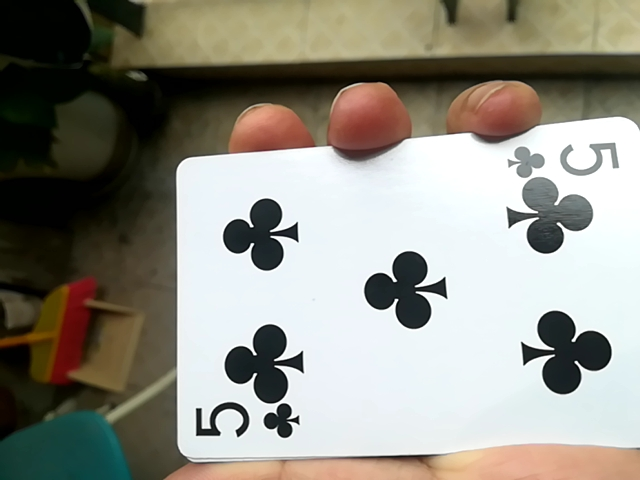mh 5: (161, 129, 635, 466)
